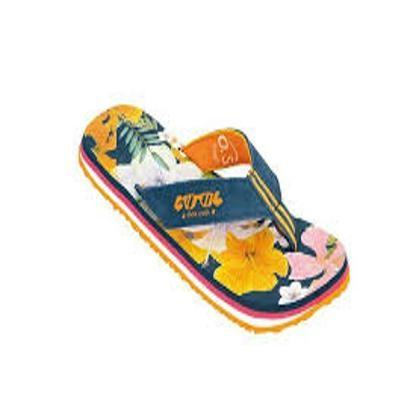not trash: (77, 106, 353, 335)
